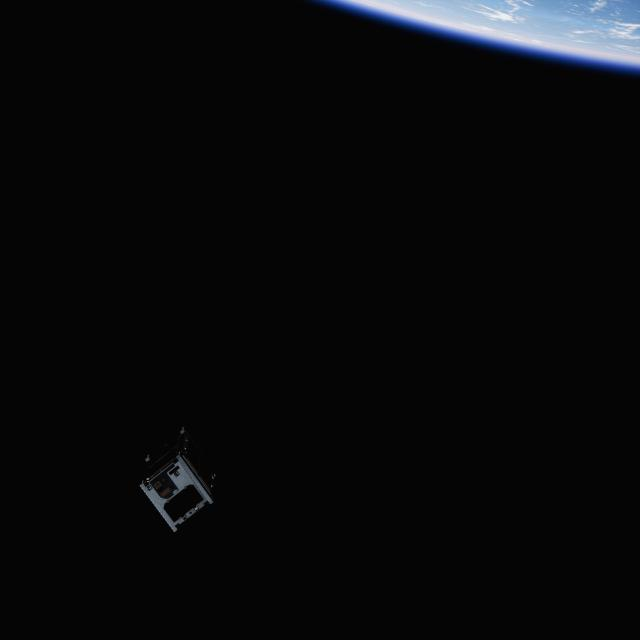satellite: (136, 427, 228, 539)
